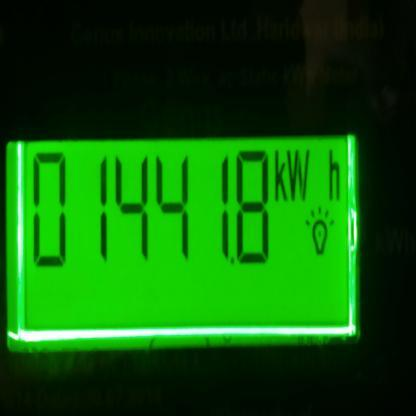.: (273, 143, 344, 208)
0: (227, 255, 238, 271)
1: (29, 148, 69, 271)
2: (93, 151, 115, 263), (217, 147, 235, 259)
5: (152, 149, 198, 265), (111, 153, 152, 265)
9: (233, 150, 274, 265)
